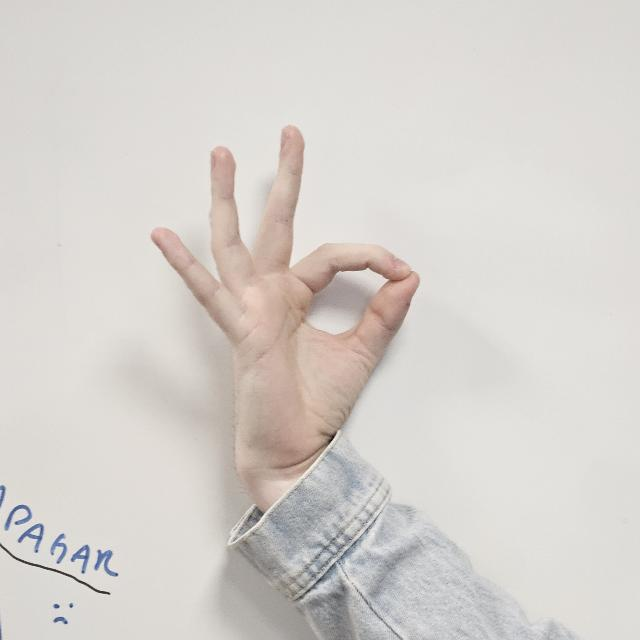Bolinha: (138, 127, 422, 485)
